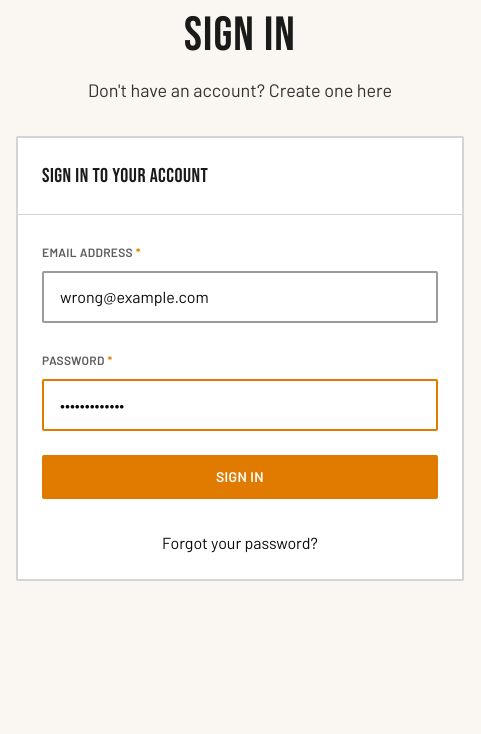
Scenario: LoginPage › Form Submission › should clear error message on new submission
Earlier steps of the test are not shown.
Click the button "Sign In". click: x=240, y=477
box: [42,455,438,499]
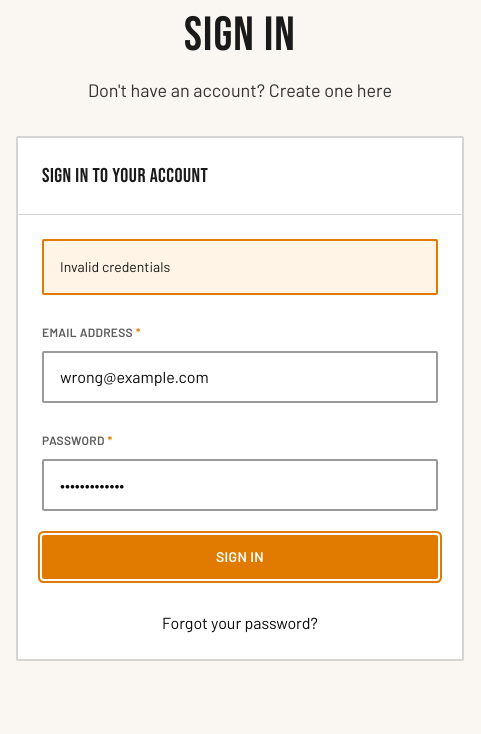
Result: the text "Invalid credentials" is shown at [60,258,170,275]
Note: Second submission - success
Clear the field labelled "Email Address *". click: x=240, y=377
box: [42,351,438,403]
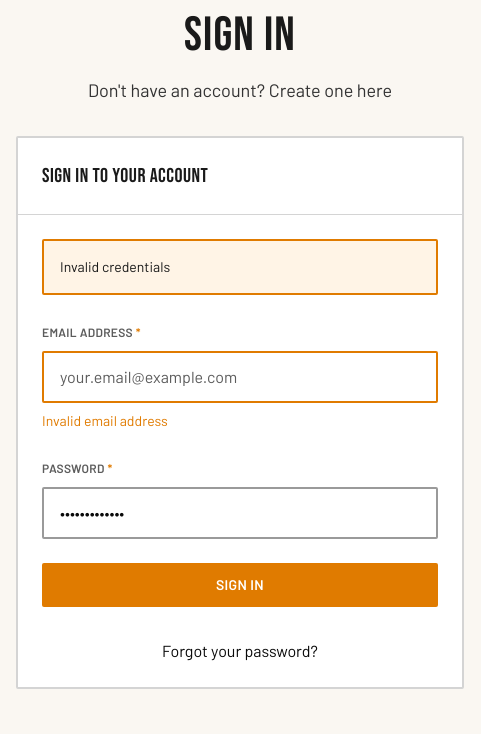
Clear the password field labelled "Password *". click: x=240, y=513
box: [42,487,438,539]
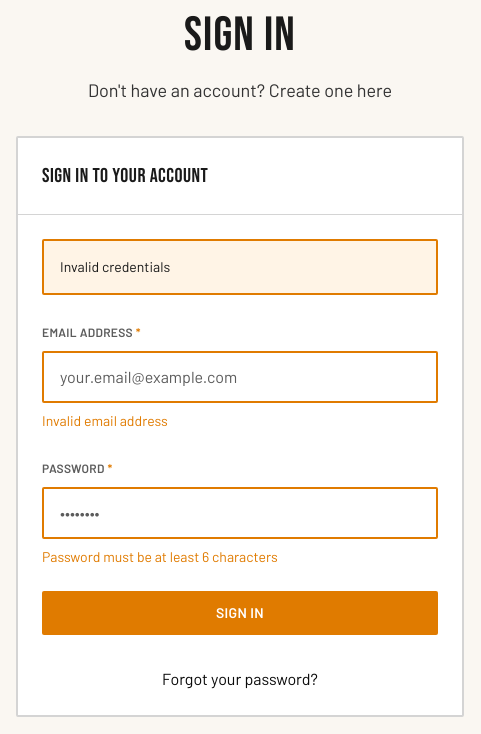
Type "correct@example.com" into the field labelled "Email Address *". click: x=240, y=377
box: [42,351,438,403]
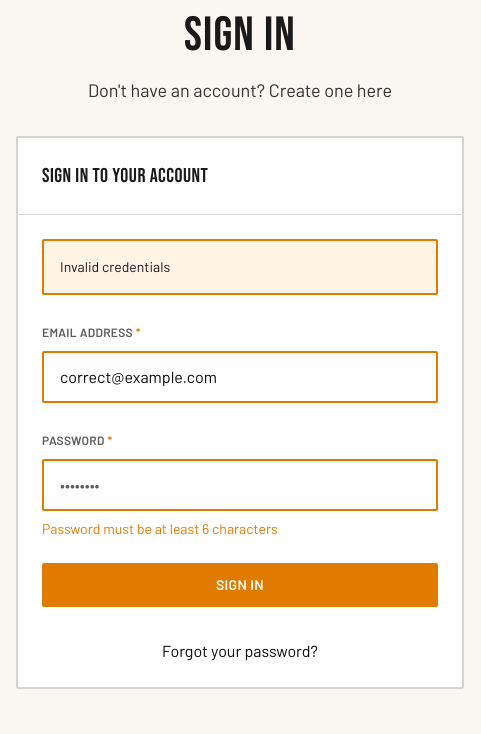
Type "correctpassword" into the password field labelled "Password *". click: x=240, y=485
box: [42,459,438,511]
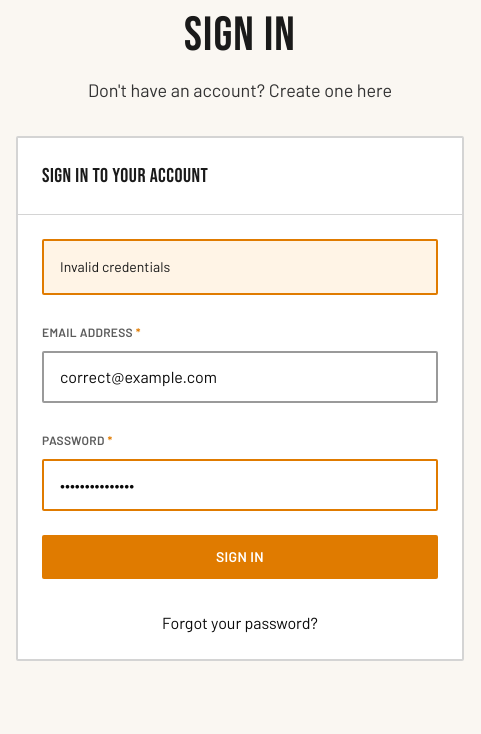
Click the button "Sign In". click: x=240, y=557
box: [42,535,438,579]
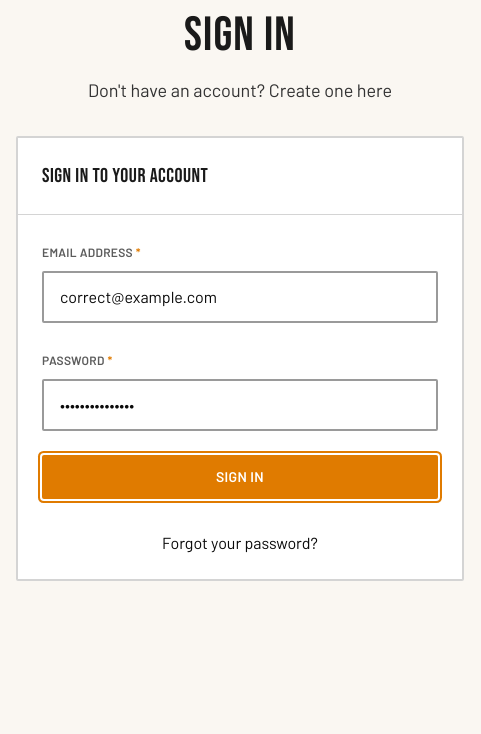
Result: the text "Invalid credentials" is gone
